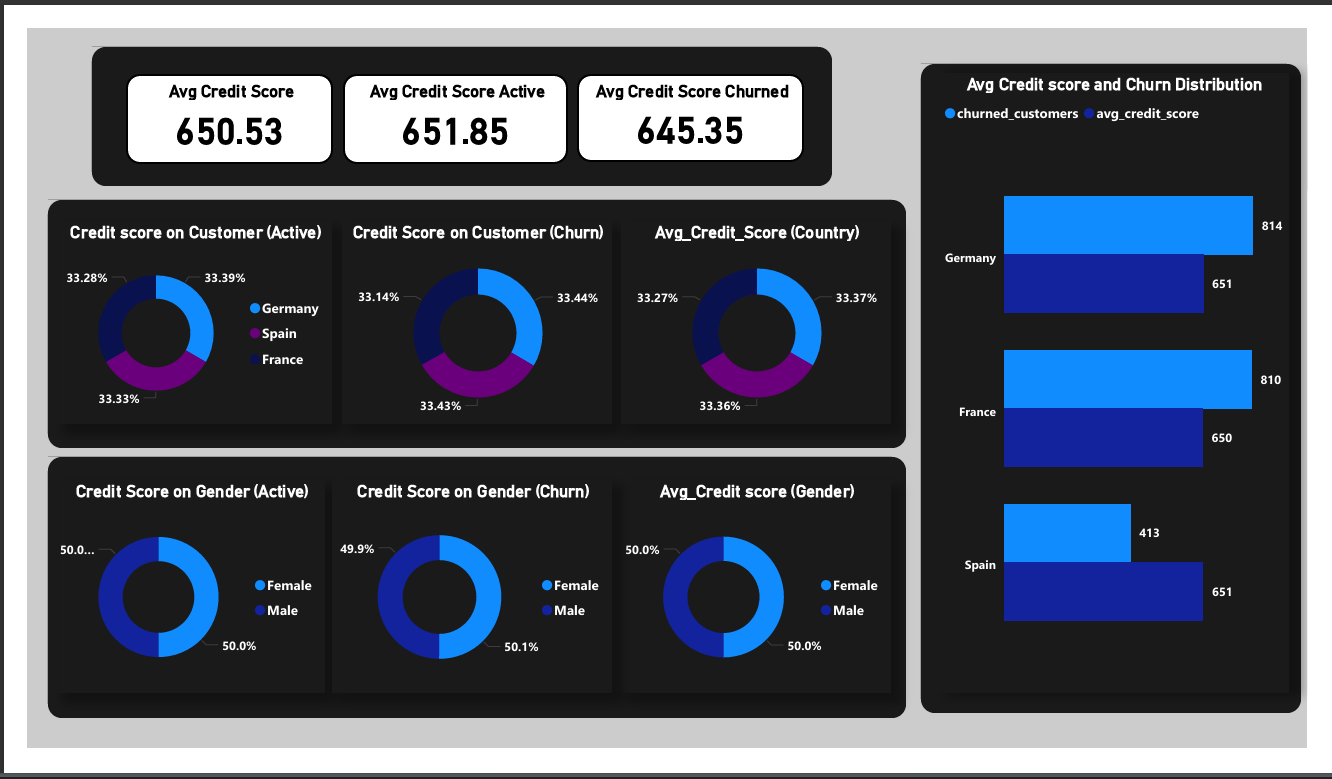

Layout of this report page (visuals, bound fields, positions):
{"tool":"powerbi","page":{"name":"Page 3","canvas":[1280,720],"ordinal":2},"visuals":[{"type":"card","title":"Avg Credit Score","fields":{"Values":["Bank Customer Churn Prediction.avg_credit_score"]},"box":[98,45,207.4,89.8],"z":0,"group":"g1"},{"type":"shape","box":[892.5,34.9,380.9,649.2],"z":0},{"type":"card","title":"Avg Credit Score Active","fields":{"Values":["Bank Customer Churn Prediction.Average Credit Score (active)"]},"box":[315.4,45,224.4,89.8],"z":1000,"group":"g1"},{"type":"shape","box":[19.9,427.8,857.6,261.3],"z":1000},{"type":"card","title":"Avg Credit Score Churned ","fields":{"Values":["Bank Customer Churn Prediction.Average Credit Score (churned)"]},"box":[548.7,45,227.4,87.8],"z":2000,"group":"g1"},{"type":"shape","box":[19.9,170.5,857.6,248.3],"z":2000},{"type":"donutChart","title":"Credit score on Customer (Active)","fields":{"Category":["Bank Customer Churn Prediction.country"],"Y":["Bank Customer Churn Prediction.Average Credit Score (active)"]},"box":[29.9,193.5,275.2,202.4],"z":3000},{"type":"donutChart","title":"Credit Score on Customer (Churn)","fields":{"Category":["Bank Customer Churn Prediction.country"],"Y":["Bank Customer Churn Prediction.Average Credit Score (churned)"]},"box":[315.1,193.5,270.2,202.4],"z":4000},{"type":"donutChart","title":"Avg_Credit score (Gender)","fields":{"Category":["Bank Customer Churn Prediction.gender"],"Y":["Bank Customer Churn Prediction.avg_credit_score"]},"box":[594.3,451.7,269.3,213.4],"z":5000},{"type":"donutChart","title":"Credit Score on Gender (Active)","fields":{"Category":["Bank Customer Churn Prediction.gender"],"Y":["Bank Customer Churn Prediction.Average Credit Score (active)"]},"box":[29.9,451.7,268.3,213.4],"z":6000},{"type":"donutChart","title":"Credit Score on Gender (Churn)","fields":{"Category":["Bank Customer Churn Prediction.gender"],"Y":["Bank Customer Churn Prediction.Average Credit Score (churned)"]},"box":[305.2,451.7,280.2,213.4],"z":7000},{"type":"donutChart","title":"Avg_Credit_Score (Country)","fields":{"Category":["Bank Customer Churn Prediction.country"],"Y":["Bank Customer Churn Prediction.avg_credit_score"]},"box":[594.3,193.5,269.3,202.4],"z":8000},{"type":"clusteredBarChart","title":"Avg Credit score and Churn Distribution","fields":{"Category":["Bank Customer Churn Prediction.country"],"Y":["Bank Customer Churn Prediction.churned_customers","Bank Customer Churn Prediction.avg_credit_score"]},"box":[911.5,44.9,351,620.3],"z":9000},{"type":"shape","box":[63.8,18,739.9,138.6],"z":10000},{"type":"group","id":"g1","title":"Group 1","box":[98,45,678.1,89.8],"z":11000}]}

Visuals, with their boxes on the page's 1280x720 design canvas (x1, y1, x2, y2). These are canvas units, not pixel positions in the 1332x779 screenshot, which may show the page scaled, cropped or inside an application window:
"Avg Credit Score" card: <bbox>98, 45, 305, 135</bbox>
shape: <bbox>892, 35, 1273, 684</bbox>
"Avg Credit Score Active" card: <bbox>315, 45, 540, 135</bbox>
shape: <bbox>20, 428, 878, 689</bbox>
"Avg Credit Score Churned " card: <bbox>549, 45, 776, 133</bbox>
shape: <bbox>20, 170, 878, 419</bbox>
"Credit score on Customer (Active)" donutChart: <bbox>30, 194, 305, 396</bbox>
"Credit Score on Customer (Churn)" donutChart: <bbox>315, 194, 585, 396</bbox>
"Avg_Credit score (Gender)" donutChart: <bbox>594, 452, 864, 665</bbox>
"Credit Score on Gender (Active)" donutChart: <bbox>30, 452, 298, 665</bbox>
"Credit Score on Gender (Churn)" donutChart: <bbox>305, 452, 585, 665</bbox>
"Avg_Credit_Score (Country)" donutChart: <bbox>594, 194, 864, 396</bbox>
"Avg Credit score and Churn Distribution" clusteredBarChart: <bbox>912, 45, 1262, 665</bbox>
shape: <bbox>64, 18, 804, 157</bbox>
"Group 1" group: <bbox>98, 45, 776, 135</bbox>
